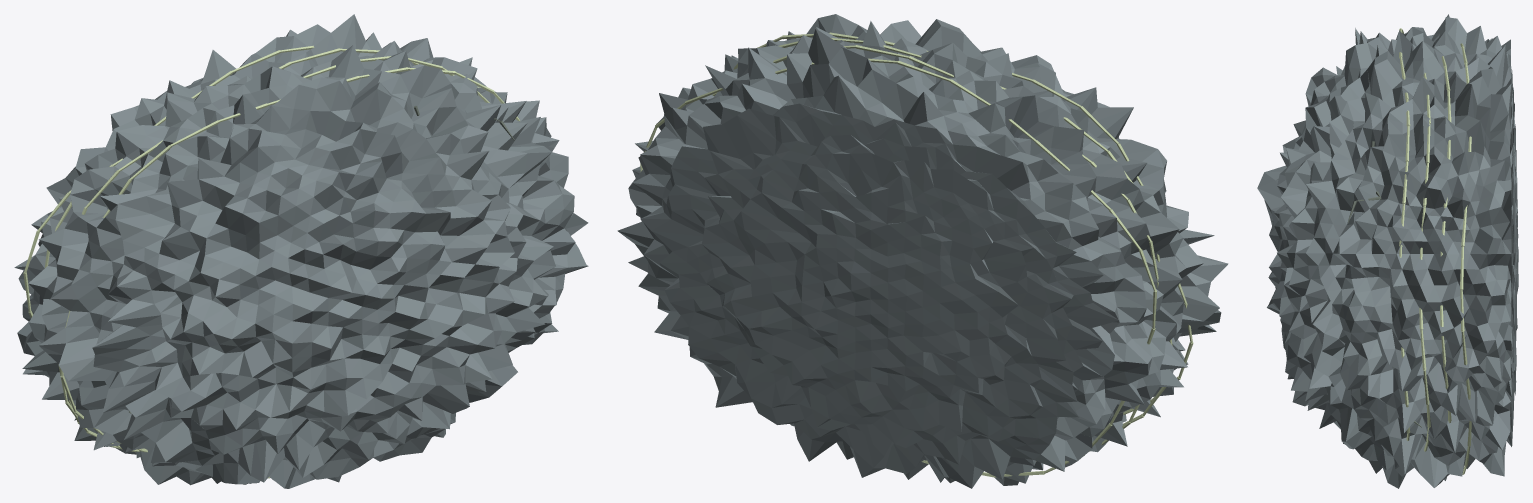
File: Aquarion_Root_Worn_Boulder.glb
The picture shows the model from 3 angles, left to right: view 1: azimuth 30°, elevation 25°; view 2: azimuth 150°, elevation 25°; view 3: azimuth 270°, elevation 25°; orthographic projection. The views are drawn at different scales.
Visible parts, largest first — view 1: Aquarion_Root_Worn_Boulder_mass; view 2: Aquarion_Root_Worn_Boulder_mass; view 3: Aquarion_Root_Worn_Boulder_mass.
Boxes of the visible parts, x1=… form: Aquarion_Root_Worn_Boulder_mass: x1=14, y1=14, x2=588, y2=488; Aquarion_Root_Worn_Boulder_mass: x1=617, y1=14, x2=1228, y2=488; Aquarion_Root_Worn_Boulder_mass: x1=1257, y1=14, x2=1518, y2=488.
Bounding box in the file's own units: 3.33 × 2.43 × 1.45.
